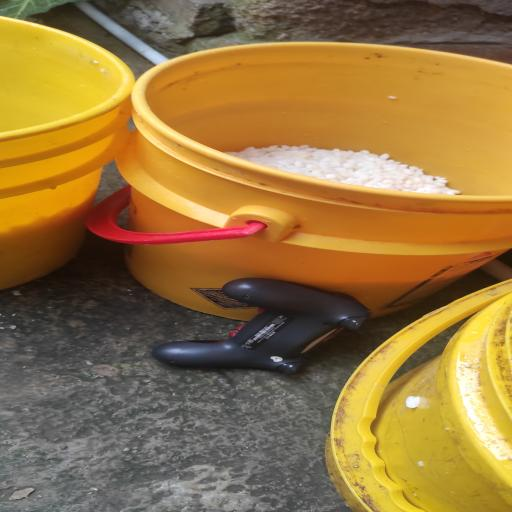ControlPlay4: (153, 278, 370, 374)
